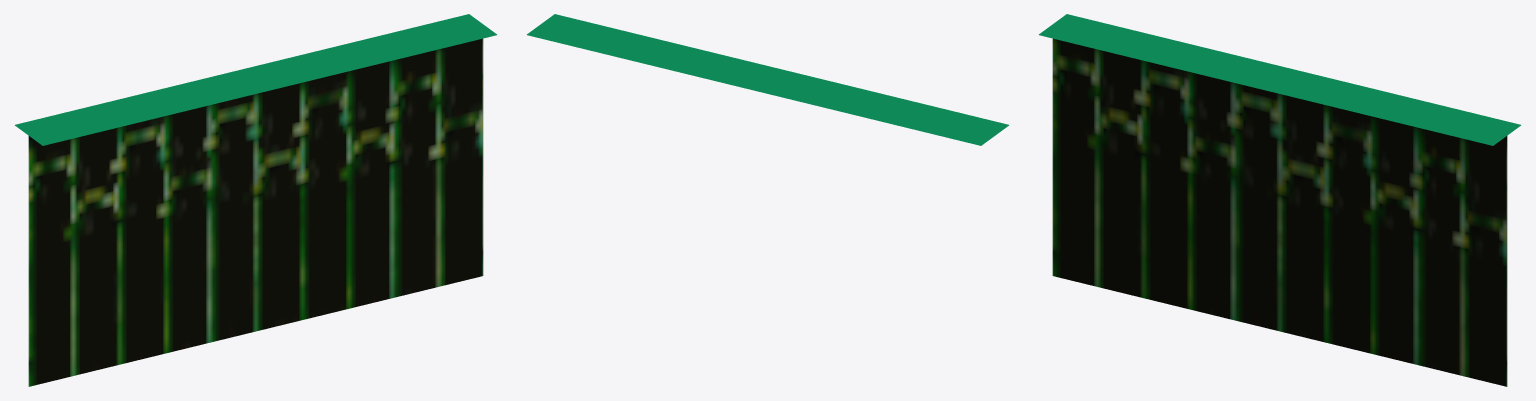
File: Geländer1_Hoch [GrünesMetallHochDicht]_302.glb
The picture shows the model from 3 angles, left to right: view 1: azimuth 30°, elevation 25°; view 2: azimuth 150°, elevation 25°; view 3: azimuth 330°, elevation 25°; orthographic projection.
Visible parts, largest first — view 1: pPlaneShape229, pPlaneShape230; view 2: pPlaneShape230; view 3: pPlaneShape229, pPlaneShape230.
Boxes of the visible parts, <box> form: pPlaneShape229: <box>28,38,483,386</box>; pPlaneShape230: <box>14,14,497,145</box>; pPlaneShape230: <box>526,14,1009,145</box>; pPlaneShape229: <box>1052,38,1507,386</box>; pPlaneShape230: <box>1038,14,1521,145</box>.
Size of the model in its own units: 0.2229 by 0.1177 by 0.0243.
2 materials, 1 textured.
